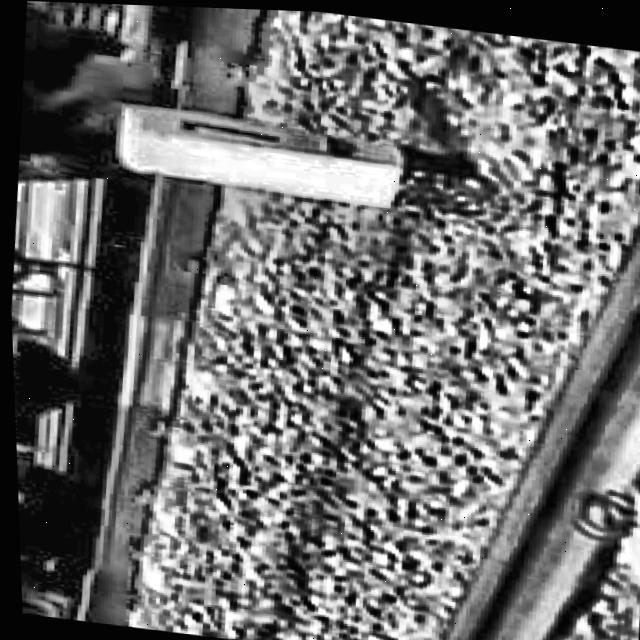Gerbong: (0, 0, 275, 423), (10, 329, 147, 626)
